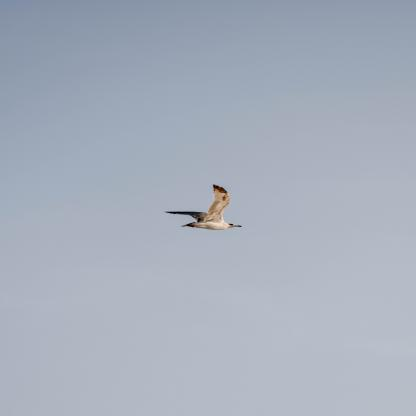bird: (164, 184, 243, 230)
